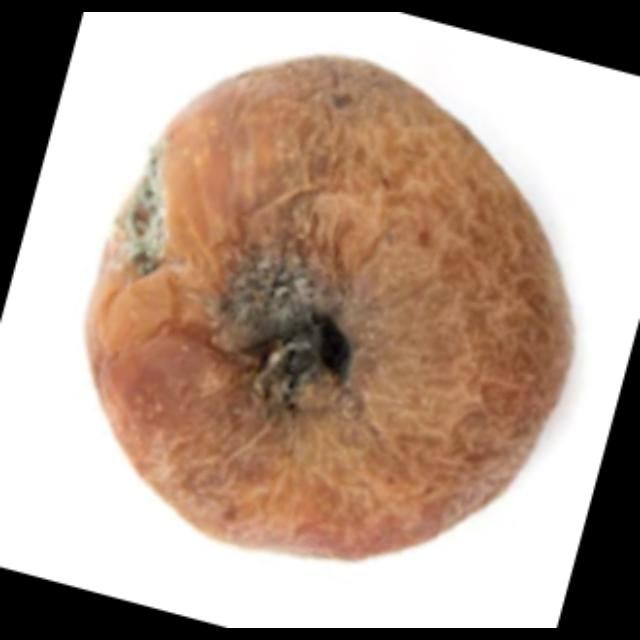Apel Tidak Segar: (95, 44, 567, 558)
